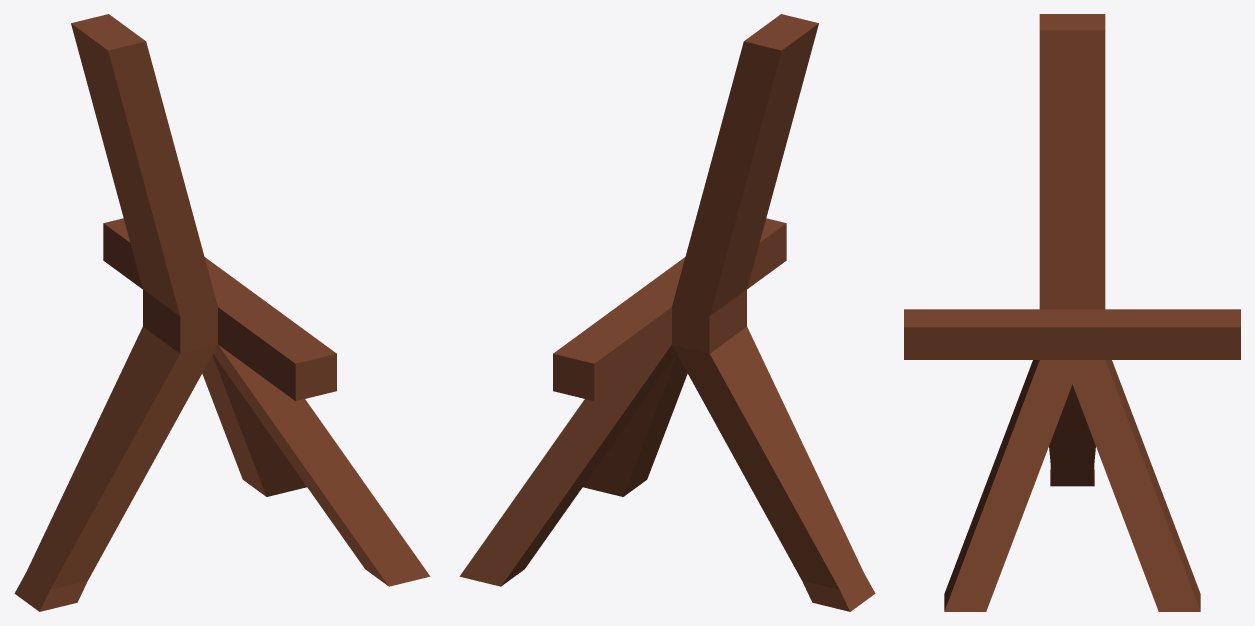
Rendered from newstand.dae.
3 views of the same model, side by side, from view 1: azimuth 30°, elevation 25°; view 2: azimuth 150°, elevation 25°; view 3: azimuth 270°, elevation 25° (orthographic). The views are drawn at different scales.
Parts seen in each view (by area): view 1: Stand; view 2: Stand; view 3: Stand.
Part boxes in pixels (x1,y1,x2,y2): Stand: [14, 14, 430, 611]; Stand: [459, 14, 875, 611]; Stand: [904, 14, 1240, 611].
Size of what is drawn, in the model's own units: 3.67 by 3.69 by 5.85.
